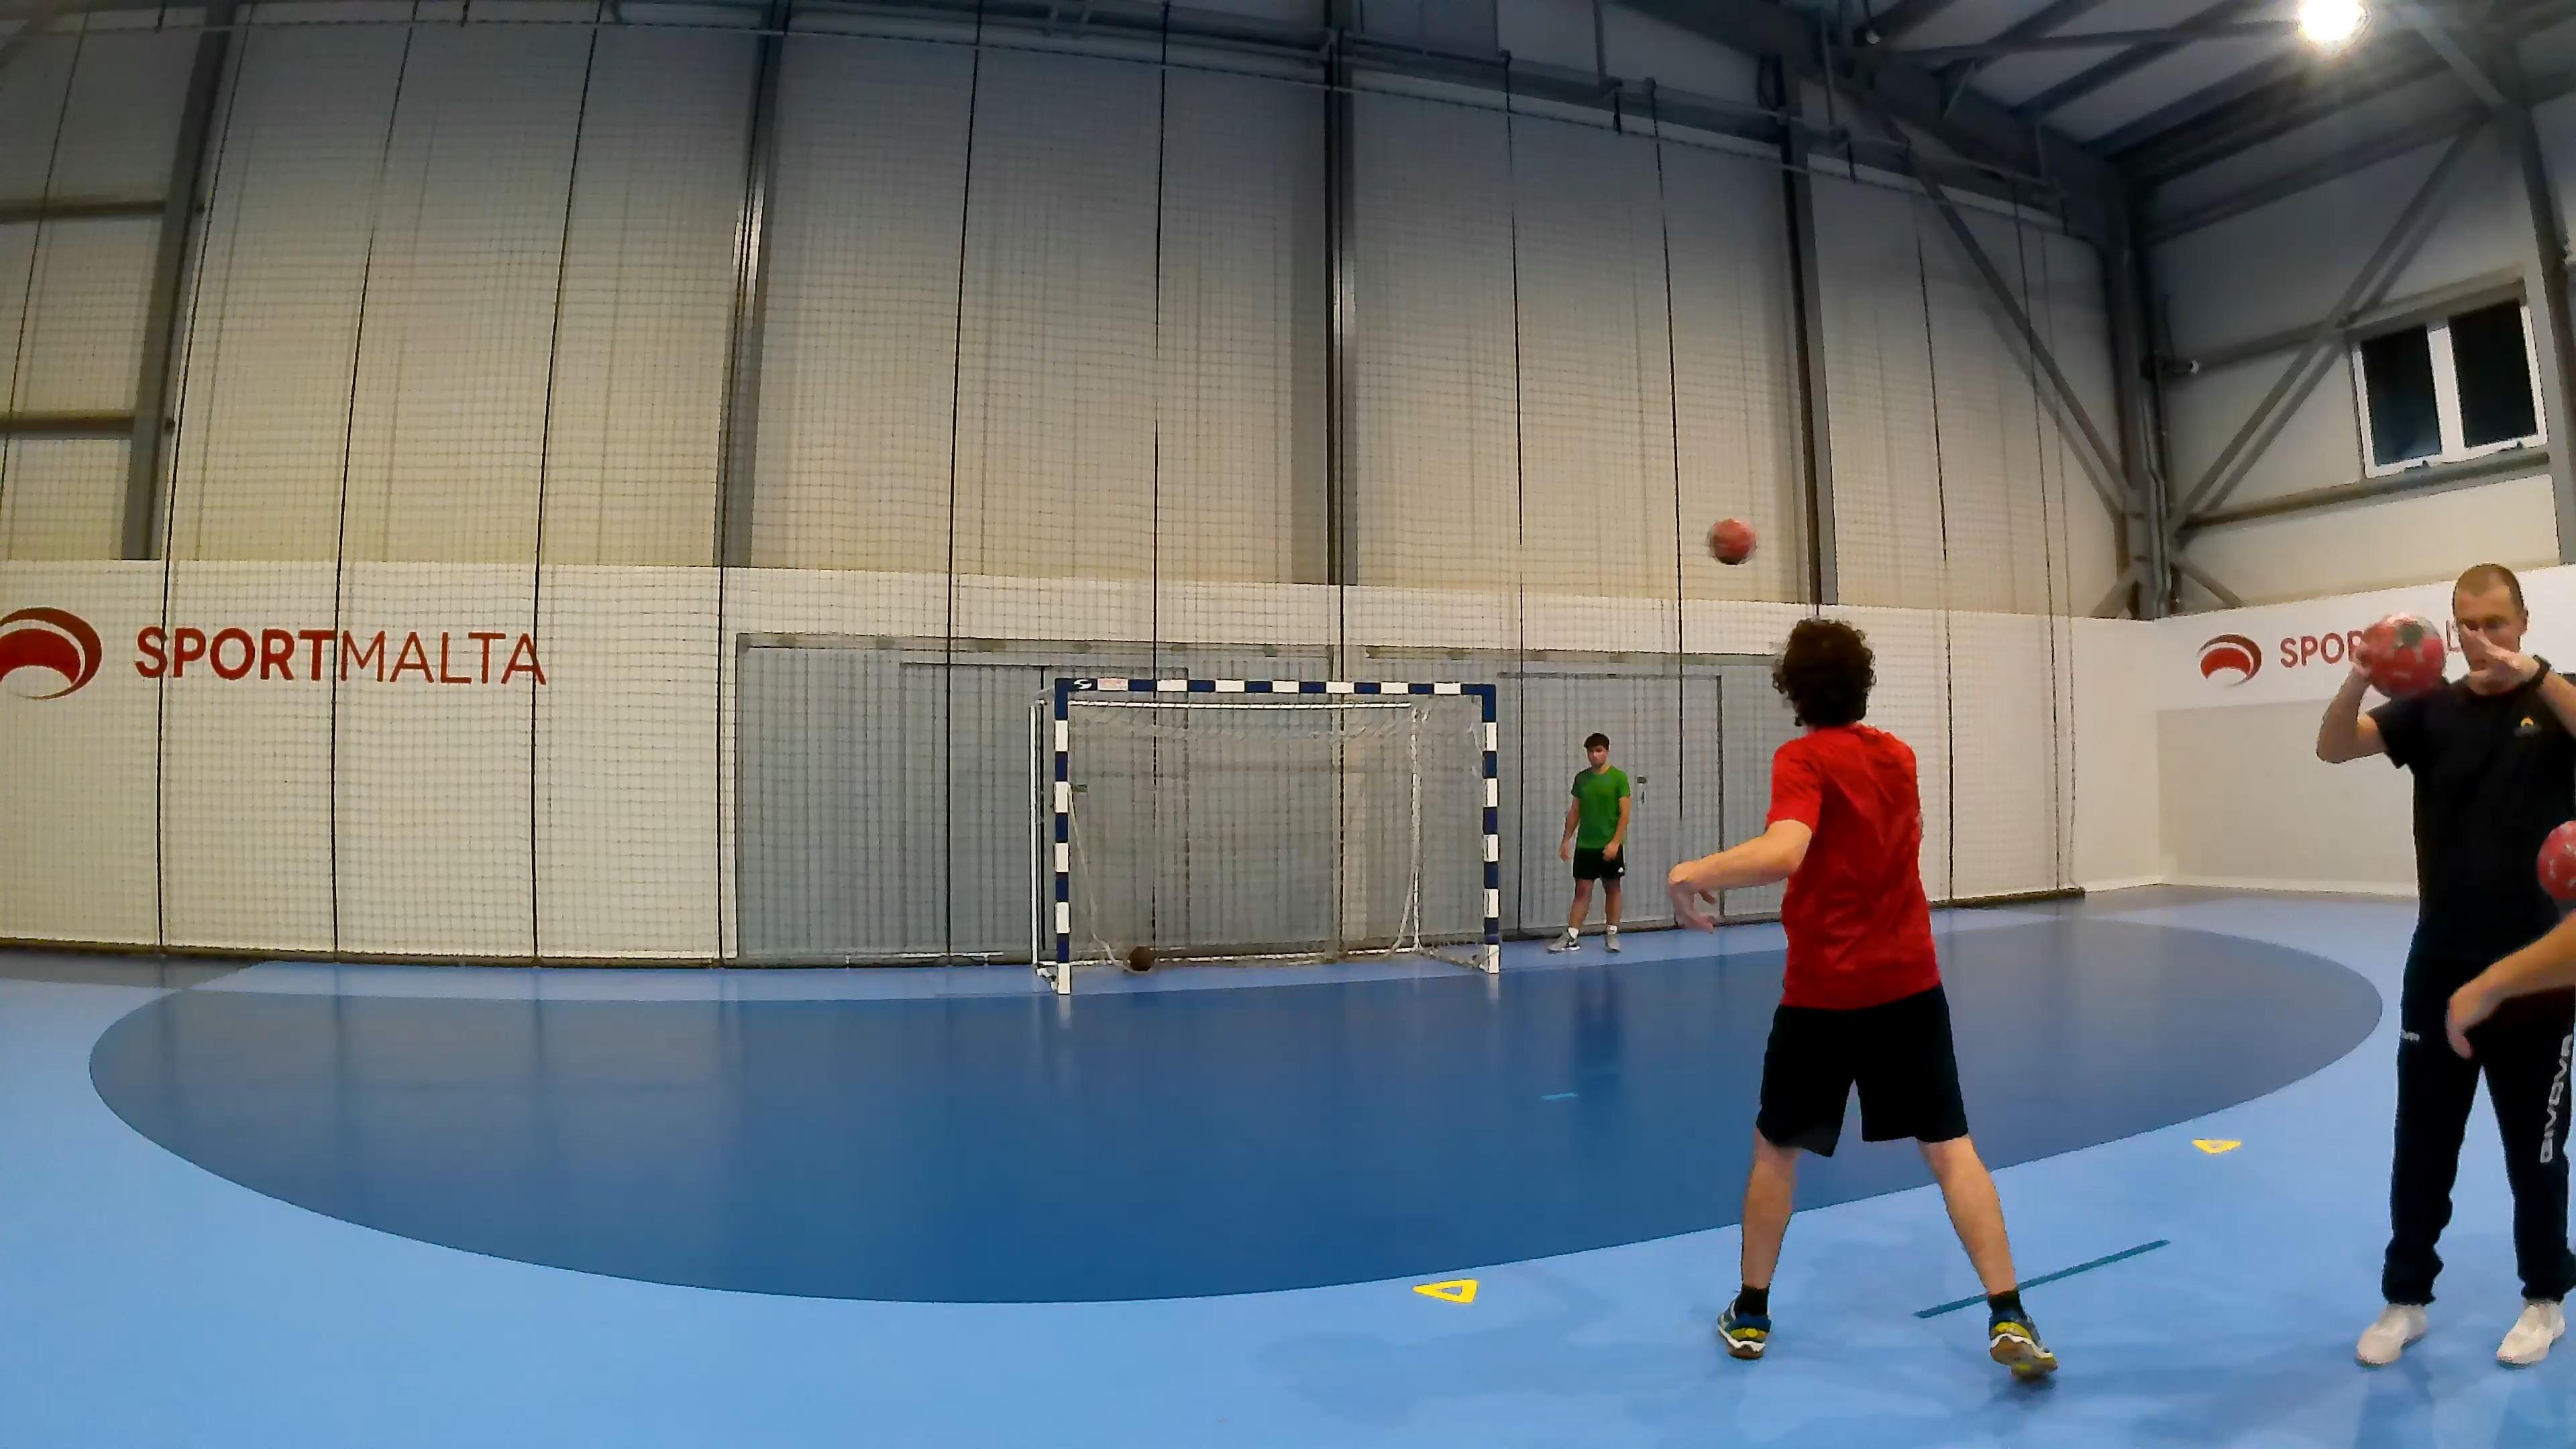handball: (2353, 603, 2459, 715), (1707, 517, 1755, 564)
